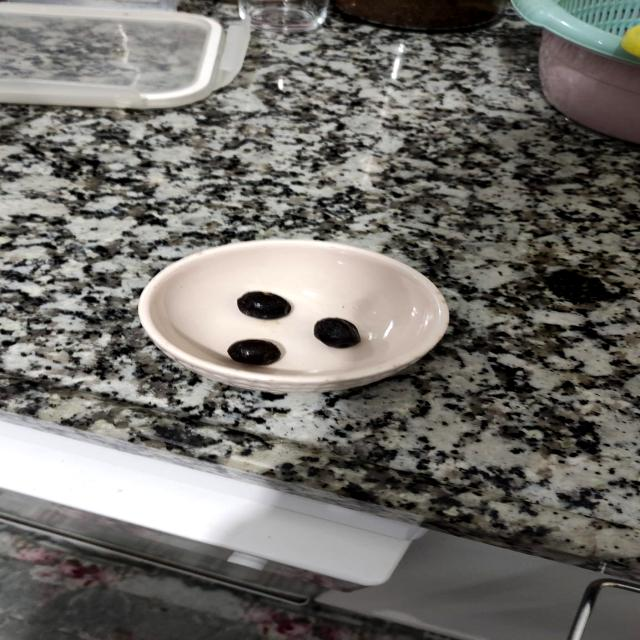olive: (222, 279, 302, 323), (220, 336, 298, 370), (309, 312, 370, 349)
